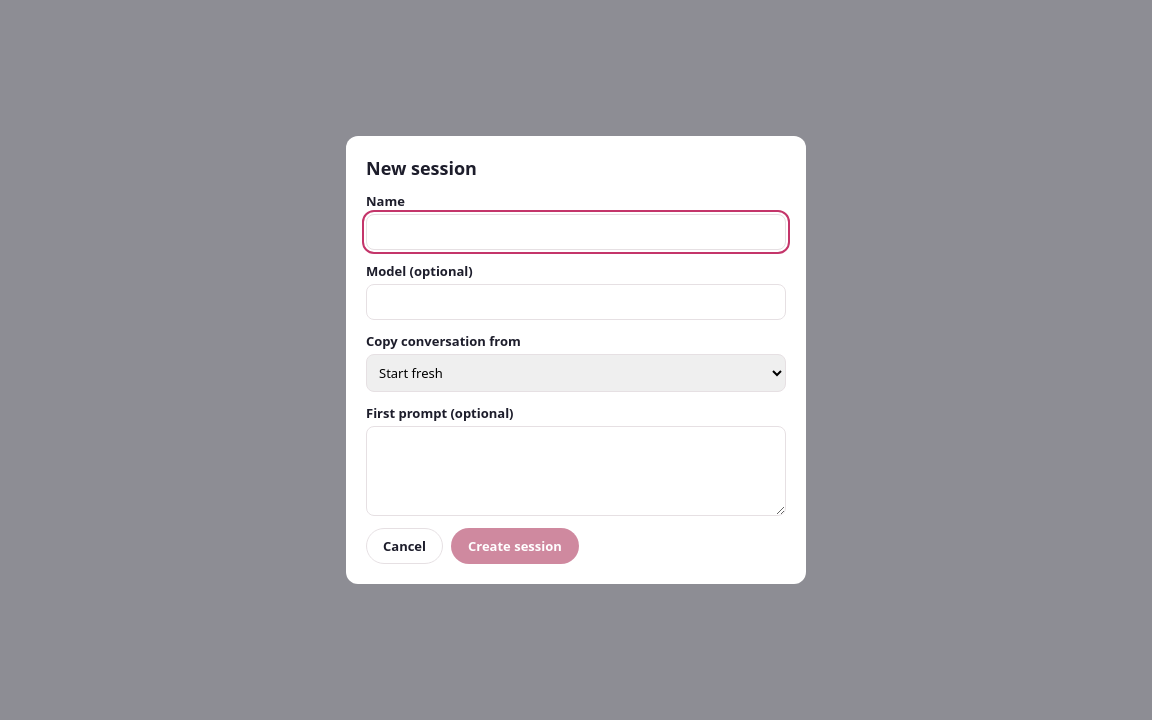
it: AddSessionDialog › shows API errors and stays open
The width and height of the screenshot is (1152, 720).
Type "main" into the field labelled "Name" at (576, 232), box left=366, top=214, right=786, bottom=250
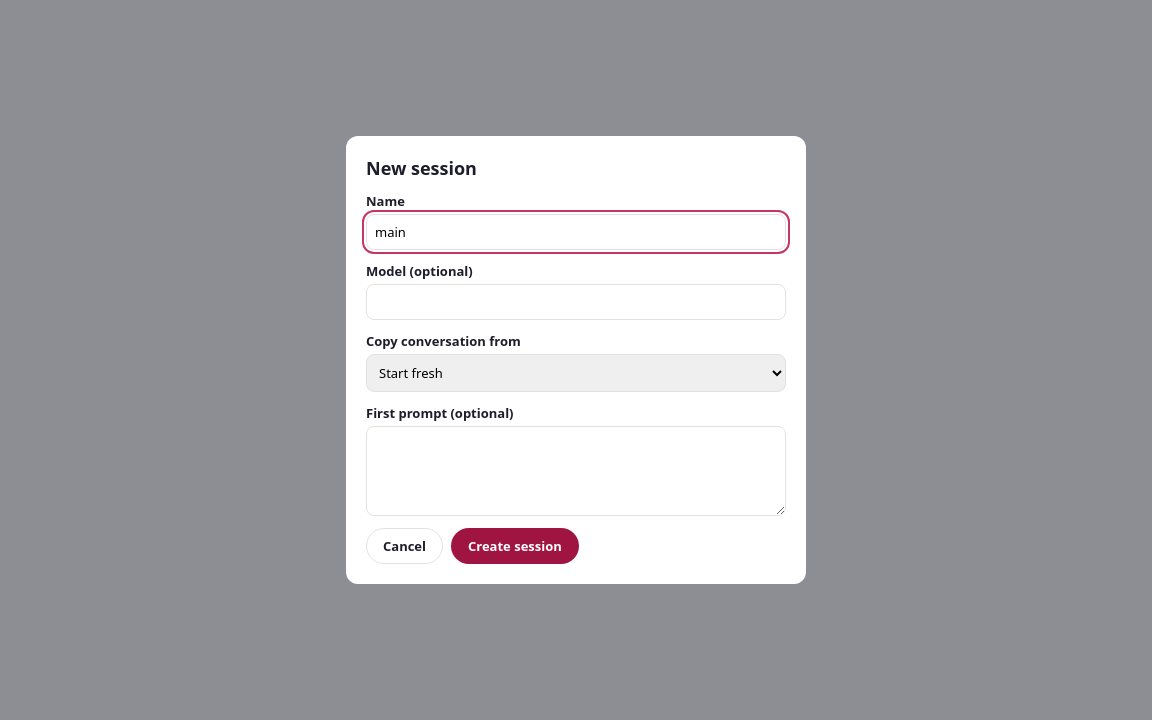
Click the button "Create session" at (515, 546), box left=451, top=528, right=579, bottom=564
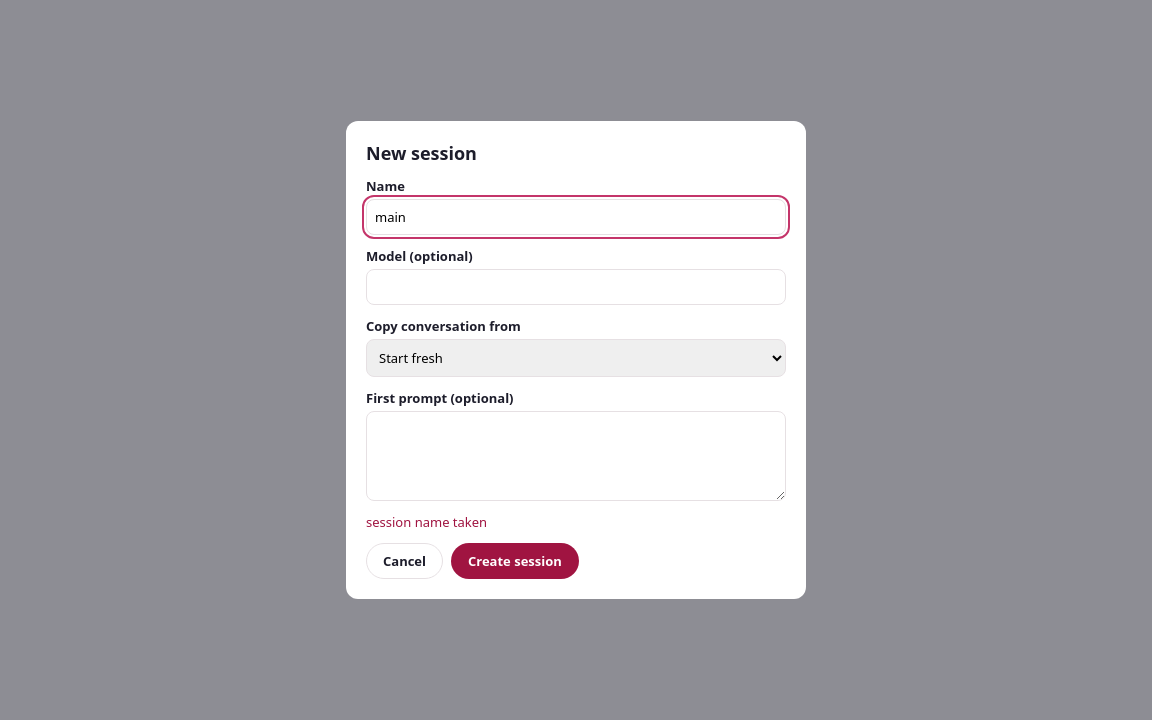
expect the dialog is shown: met, box left=346, top=121, right=806, bottom=599
expect the message reads "session name taken": met, box left=366, top=513, right=487, bottom=531
